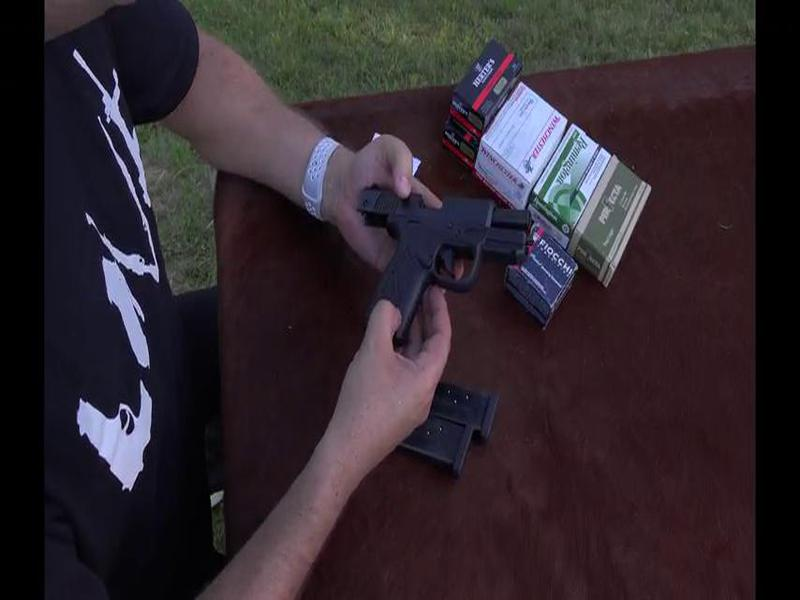Pistola: (330, 174, 532, 360)
